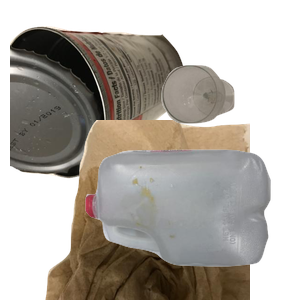glass: (159, 63, 300, 179)
metal: (10, 23, 193, 194)
plastic: (83, 147, 300, 300)
trash: (43, 120, 283, 300)
